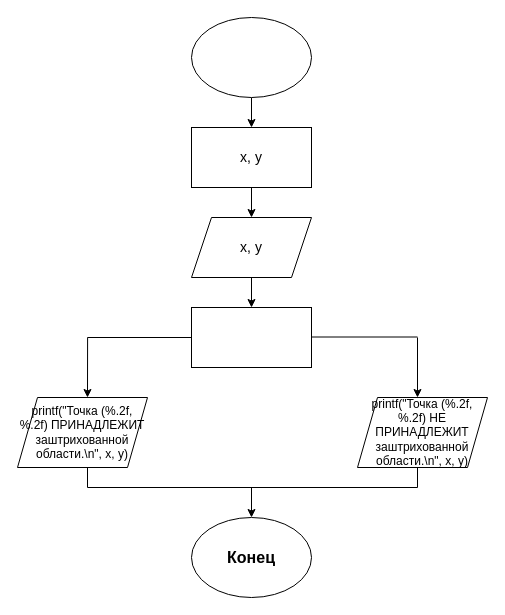
The diagram is 505 pixels wide and 615 high, and some of its shapes have lost their labels. Each missing label, with the centre of its shape:
(y <= 0.0 && y >= 1.5 * fabs(x) - 6.0)?: (251,337)
Начало: (251,57)
